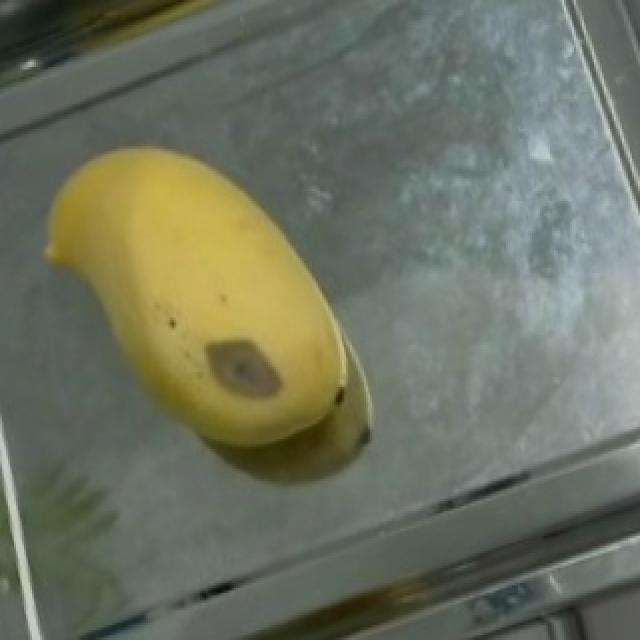fruit: (2, 79, 392, 459)
